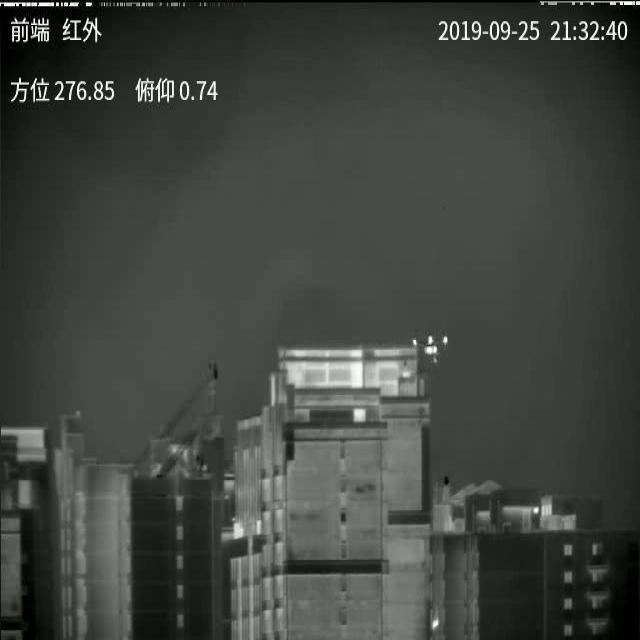drone: (412, 333, 450, 357)
